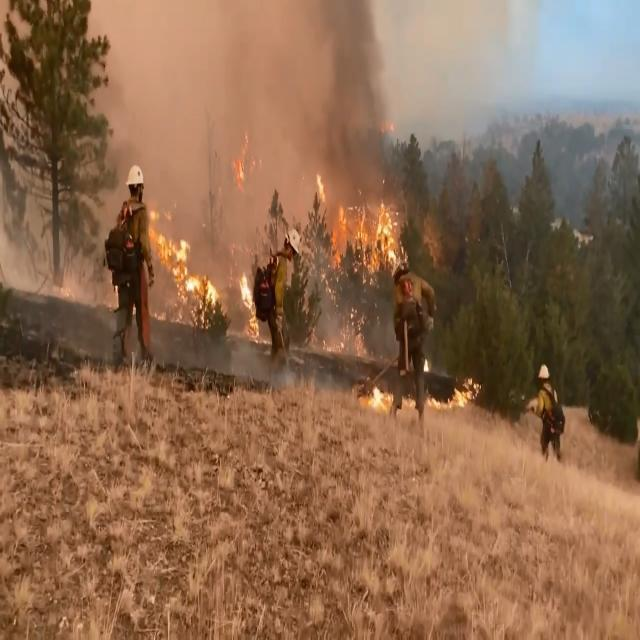Fire: (143, 121, 480, 416)
